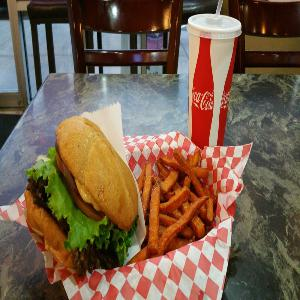cheeseburger: (15, 107, 146, 289)
fries: (137, 132, 223, 254)
